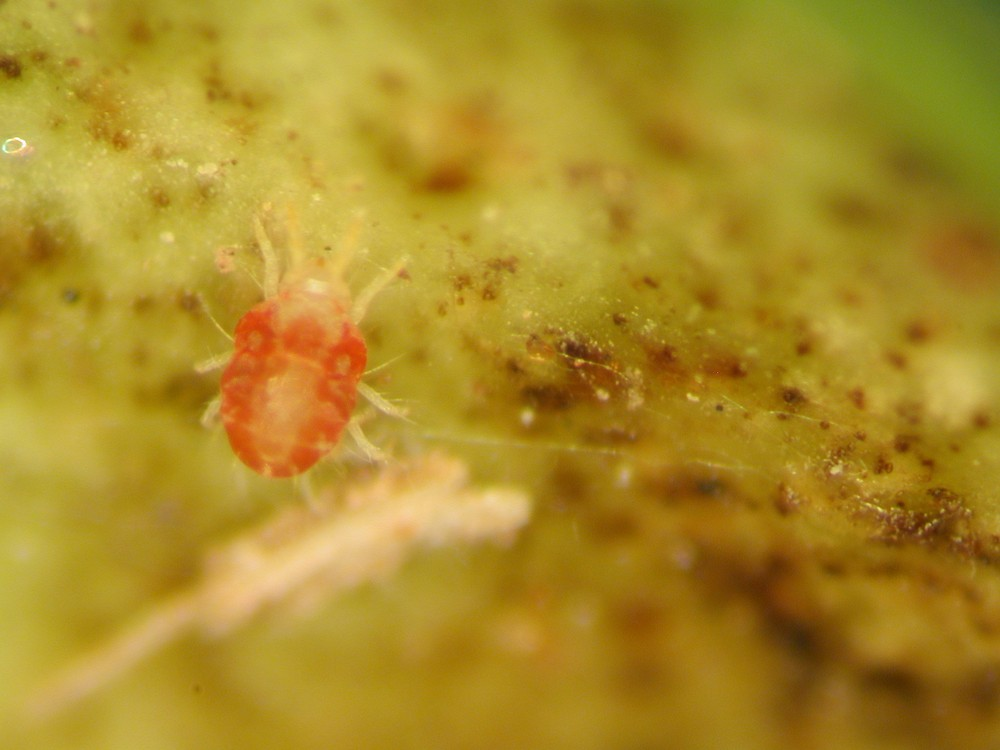Aracnido Rojo: (164, 203, 423, 506)
